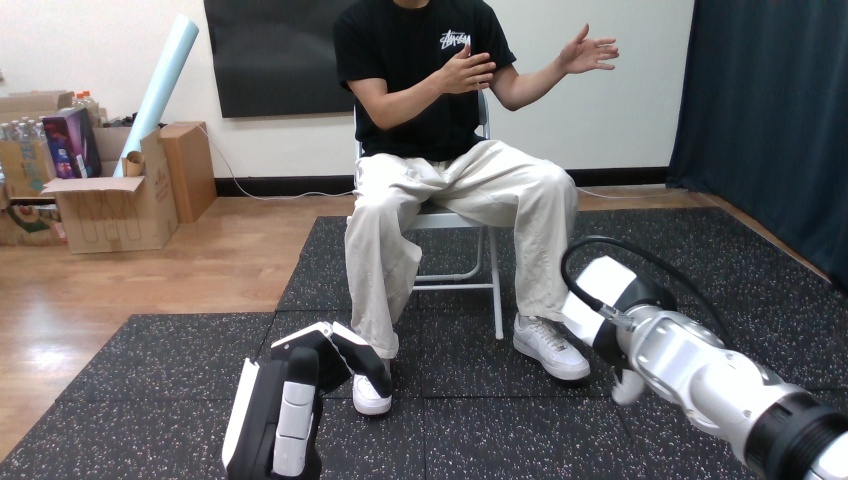left robot hand: (561, 236, 847, 479), (222, 322, 391, 479), (556, 24, 618, 75)
